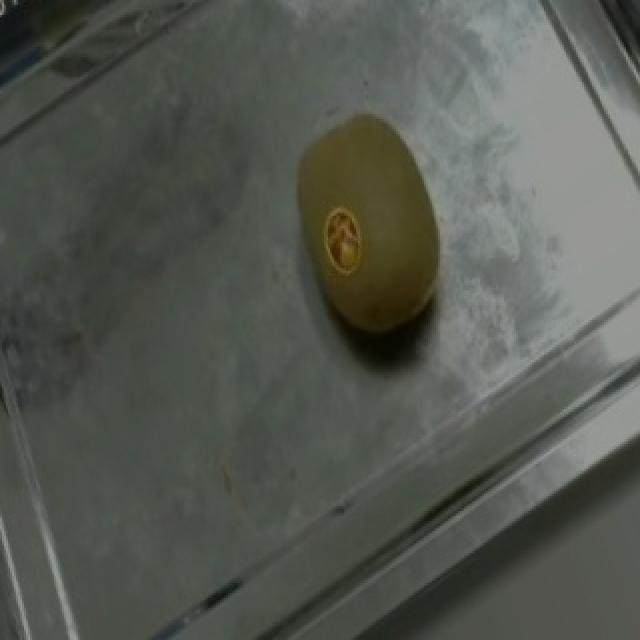Fruit: (254, 84, 482, 384)
